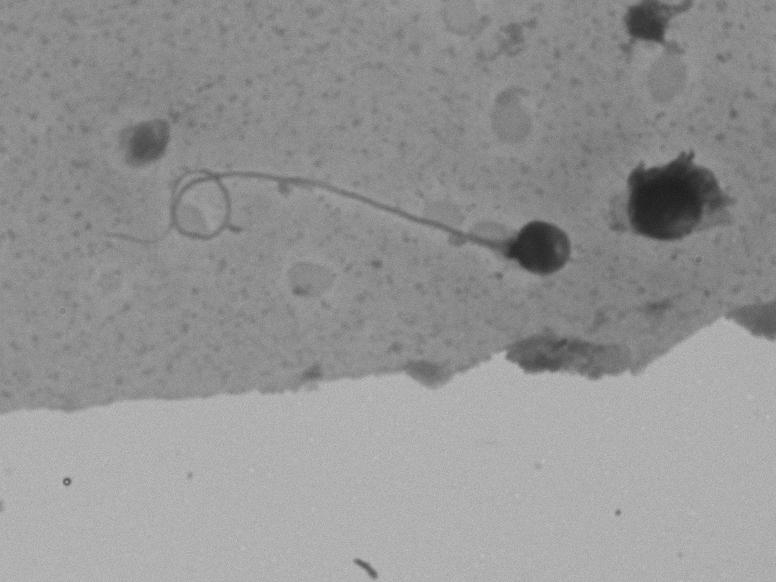Abnormal: (123, 130, 587, 316)
